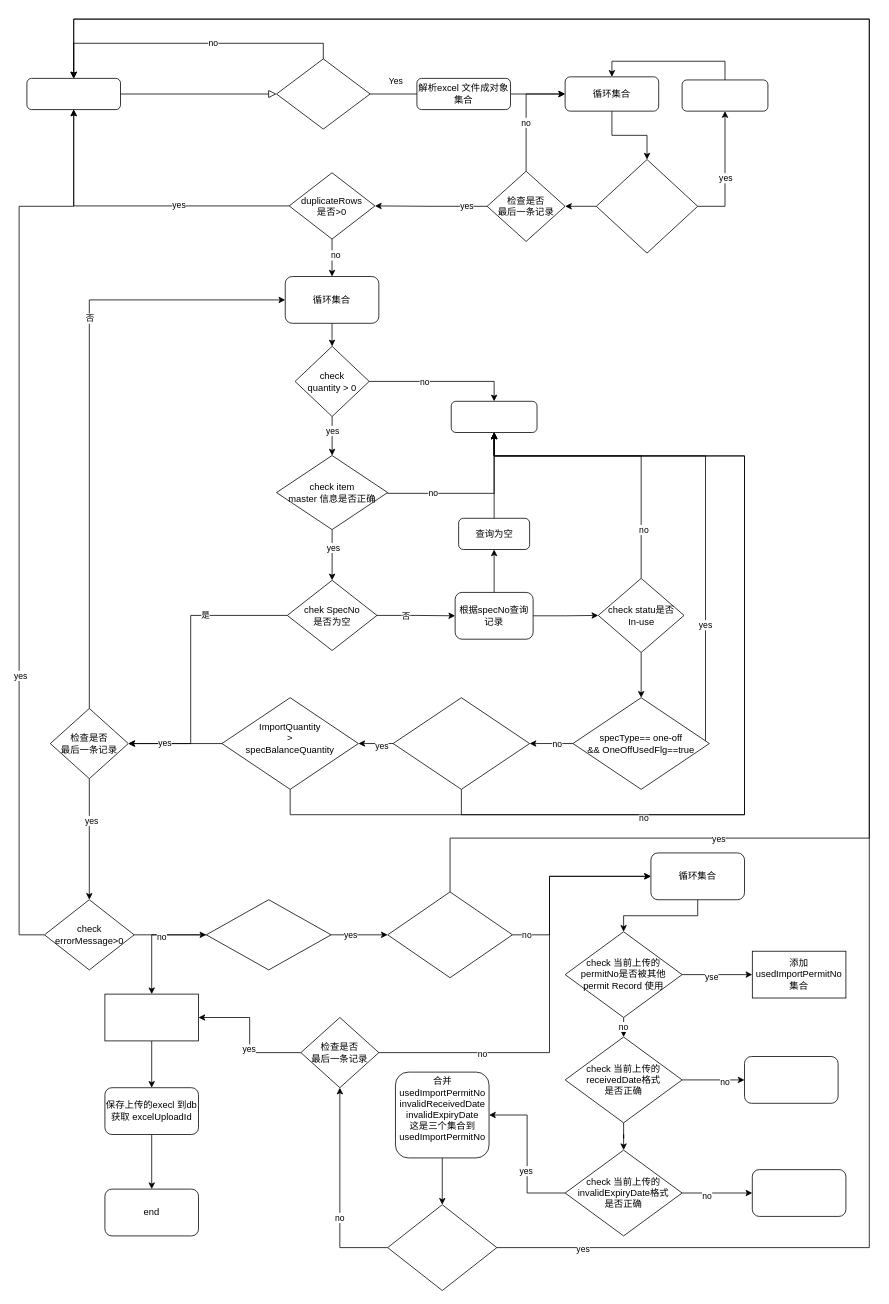
Image size: 889x1304. Some labels were removed from this diagram. Each missing label, with the centre of its shape:
check permit no, receivedDate, expiryDate是否为空: point (449, 934)
check specItemCode 和permitItemCode 是否相同: point (461, 743)
check status == in-use: point (268, 934)
check use or submit status: point (323, 93)
check 集合 usedImportPermitNo >0: point (442, 1247)
开始: point (73, 94)
把上传文件记录的对象转换成 importDto对象: point (151, 1017)
根据itemCode 和lotNum对比 查找相同记录: point (647, 206)
添加 invalidExpiryDate 集合: point (799, 1192)
添加 invalidReceivedDate 集合: point (791, 1079)
添加错误日志到duplicateRows里面: point (724, 95)
添加错误日志到errorMessage里面: point (493, 417)
